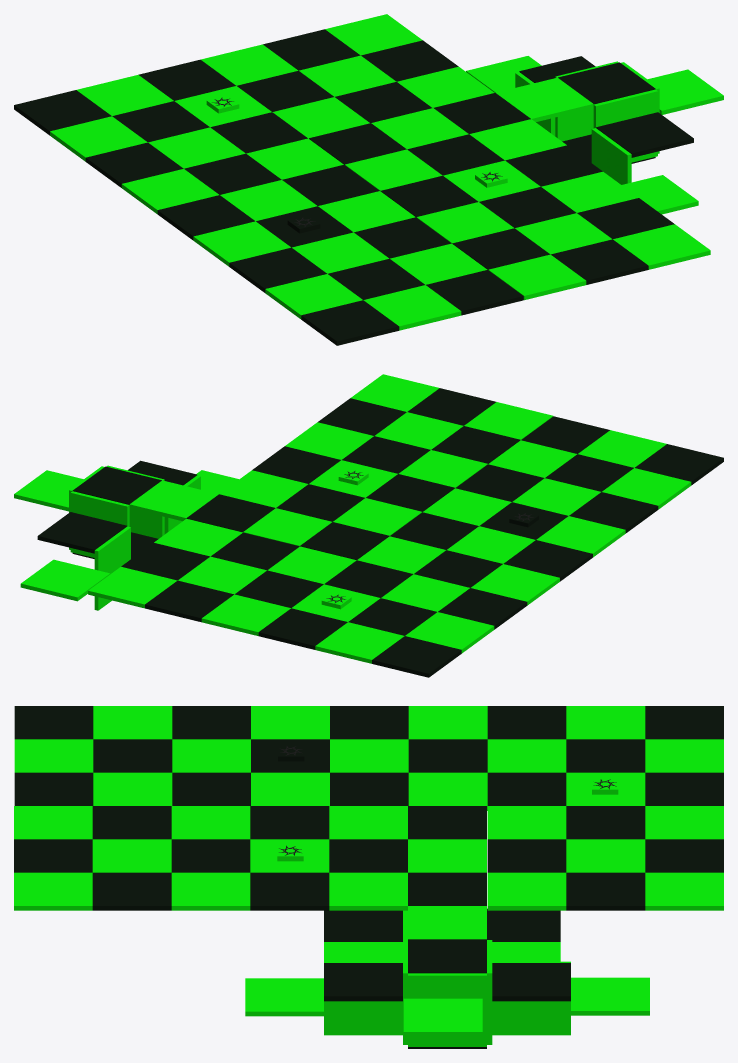
Rendered from floor.obj.
The picture shows the model from 3 angles, top to bottom: view 1: azimuth 30°, elevation 25°; view 2: azimuth 150°, elevation 25°; view 3: azimuth 270°, elevation 25°; orthographic projection. The views are drawn at different scales.
Visible parts, largest first — view 1: Wobbly26, Wobbly72, Wobbly44, Wobbly46, Wobbly27, Wobbly28, Wobbly45, Wobbly62, Wobbly38, Wobbly7, Wobbly30, Wobbly34 (+52 smaller); view 2: Wobbly5, Wobbly64, Wobbly70, Wobbly19, Wobbly15, Wobbly10, Wobbly17, Wobbly4, Wobbly62, Wobbly6, Wobbly7, Wobbly29 (+52 smaller); view 3: Wobbly9, Wobbly40, Wobbly55, Wobbly76, Wobbly8, Wobbly51, Wobbly75, Wobbly10, Wobbly46, Wobbly53, Wobbly61, Wobbly64 (+57 smaller).
Boxes of the visible parts, x1,y1,x2,y2 form: Wobbly26: (301,300,399,345); Wobbly72: (596,112,693,157); Wobbly44: (488,254,586,300); Wobbly46: (613,224,710,269); Wobbly27: (363,285,461,330); Wobbly28: (426,270,523,315); Wobbly45: (551,239,648,284); Wobbly62: (496,77,593,121); Wobbly38: (157,195,254,240); Wobbly7: (85,142,183,187); Wobbly30: (193,221,290,266); Wobbly34: (265,274,362,319); Wobbly5: (372,636,461,677); Wobbly64: (20,559,110,601); Wobbly70: (37,512,127,553); Wobbly19: (258,608,347,649); Wobbly15: (201,594,290,635); Wobbly10: (88,566,177,608); Wobbly17: (315,622,404,663); Wobbly4: (145,580,233,622); Wobbly62: (129,480,218,521); Wobbly6: (405,612,494,653); Wobbly7: (438,588,527,629); Wobbly29: (569,492,658,533); Wobbly9: (566,872,645,910); Wobbly40: (92,872,171,910); Wobbly55: (250,872,329,910); Wobbly76: (403,998,482,1036); Wobbly8: (487,872,566,910); Wobbly51: (171,872,250,910); Wobbly75: (408,973,486,1046); Wobbly10: (645,872,723,910); Wobbly46: (14,872,92,910); Wobbly53: (329,872,407,910); Wobbly61: (245,978,323,1016); Wobbly64: (571,977,649,1015).
Bounding box in the file's own units: 163 × 25.46 × 162.
Materials: 4 (1 with a texture image).
